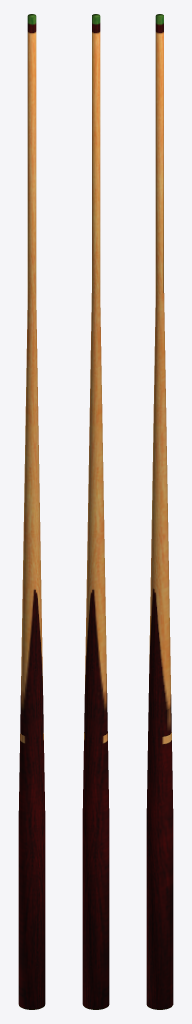
3 views of the same model, side by side, from view 1: azimuth 30°, elevation 25°; view 2: azimuth 150°, elevation 25°; view 3: azimuth 330°, elevation 25° (orthographic).
Visible parts, largest first — view 1: Cue; view 2: Cue; view 3: Cue.
Part boxes in pixels (<box>): Cue: <box>18,14,45,1009</box>; Cue: <box>82,14,109,1009</box>; Cue: <box>146,14,173,1009</box>.
Size of the model in its own units: 0.0396 by 0.0395 by 1.62.
2 materials, 2 textured.
